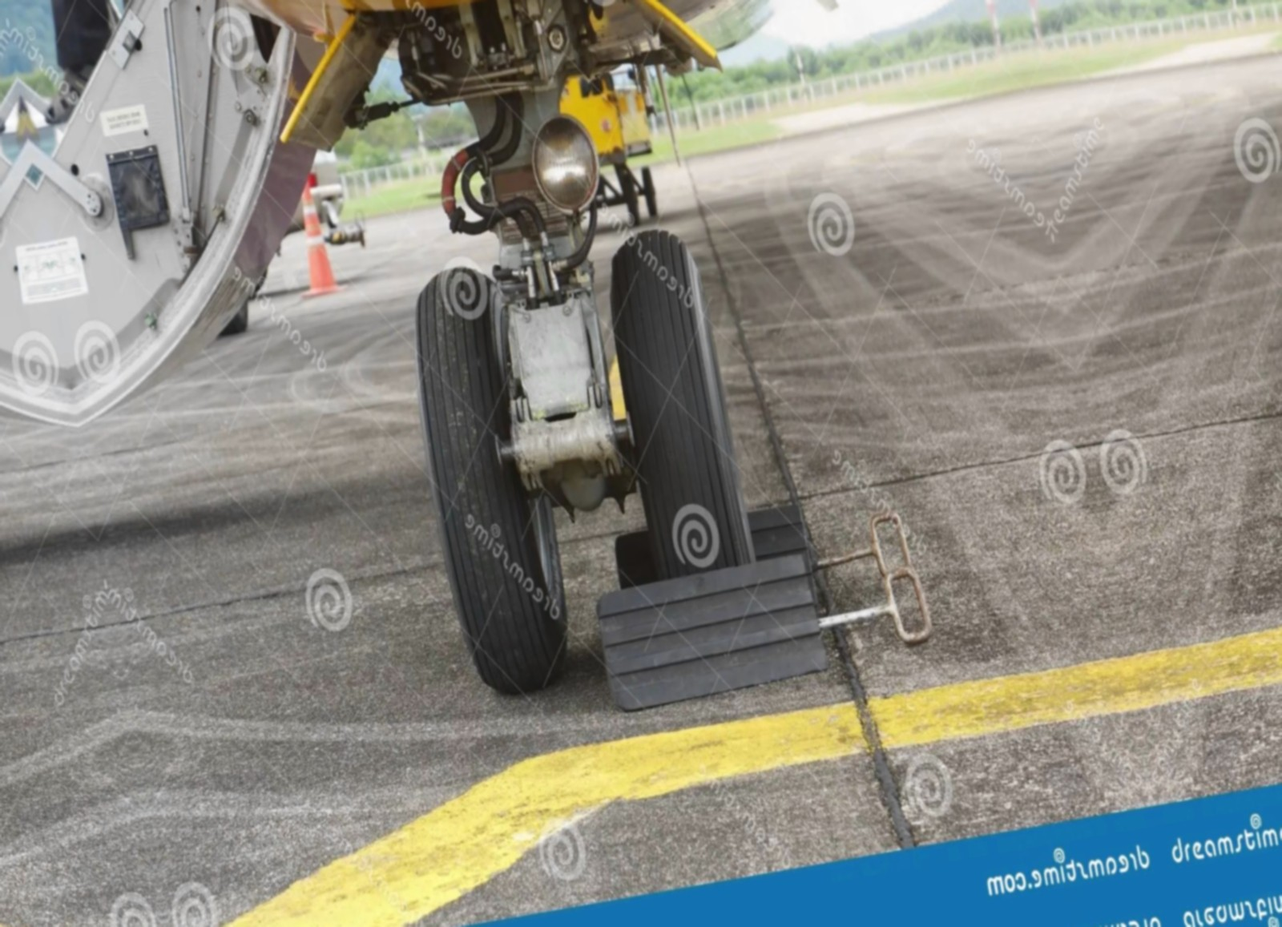chock: (589, 554, 831, 710), (606, 495, 818, 591)
wheel: (399, 261, 584, 694), (593, 219, 754, 579)
